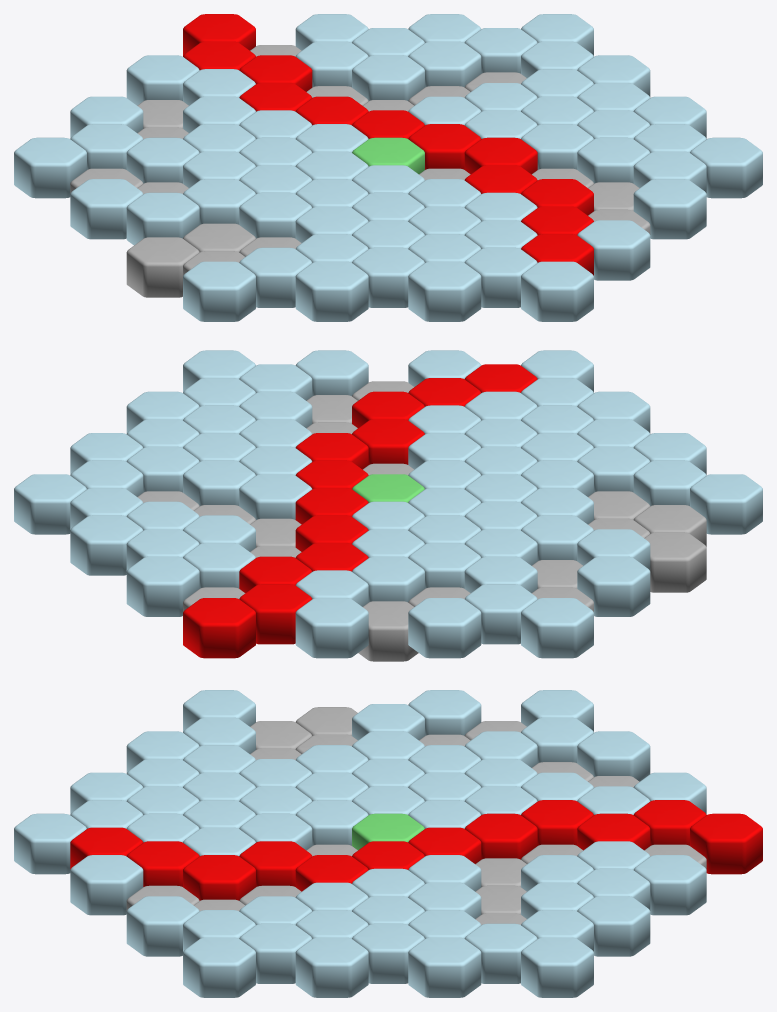
Rendered from hexa.fbx.
The picture shows the model from 3 angles, top to bottom: view 1: azimuth 30°, elevation 25°; view 2: azimuth 150°, elevation 25°; view 3: azimuth 270°, elevation 25°; orthographic projection.
Parts seen in each view (by area): view 1: Object_70, Object_90, Object_12, Object_61, Object_55, Object_43, Object_54, Object_34, Object_59, Object_57, Object_58, Object_79 (+74 smaller); view 2: Object_62, Object_80, Object_0, Object_55, Object_24, Object_57, Object_61, Object_51, Object_35, Object_59, Object_1, Object_63 (+77 smaller); view 3: Object_52, Object_53, Object_51, Object_54, Object_0, Object_34, Object_12, Object_35, Object_43, Object_24, Object_62, Object_47 (+73 smaller).
Part boxes in pixels (left/top/right/bottom): Object_70: left=295, top=261, right=368, bottom=321; Object_90: left=408, top=261, right=481, bottom=321; Object_12: left=521, top=261, right=593, bottom=321; Object_61: left=183, top=261, right=255, bottom=321; Object_55: left=14, top=137, right=86, bottom=198; Object_43: left=633, top=179, right=706, bottom=239; Object_54: left=690, top=137, right=762, bottom=198; Object_34: left=577, top=220, right=650, bottom=280; Object_59: left=126, top=237, right=199, bottom=297; Object_57: left=70, top=179, right=142, bottom=239; Object_58: left=126, top=192, right=199, bottom=245; Object_79: left=352, top=247, right=424, bottom=307; Object_62: left=408, top=598, right=481, bottom=658; Object_80: left=295, top=598, right=368, bottom=658; Object_0: left=183, top=598, right=255, bottom=658; Object_55: left=521, top=598, right=593, bottom=658; Object_24: left=126, top=556, right=199, bottom=616; Object_57: left=577, top=556, right=650, bottom=616; Object_61: left=690, top=474, right=762, bottom=534; Object_51: left=14, top=474, right=86, bottom=534; Object_35: left=70, top=515, right=143, bottom=575; Object_59: left=644, top=532, right=706, bottom=592; Object_1: left=239, top=584, right=311, bottom=644; Object_63: left=465, top=584, right=537, bottom=644; Object_52: left=408, top=937, right=481, bottom=997; Object_53: left=295, top=937, right=368, bottom=997; Object_51: left=521, top=937, right=593, bottom=997; Object_54: left=183, top=937, right=255, bottom=997; Object_0: left=690, top=813, right=762, bottom=874; Object_34: left=70, top=855, right=143, bottom=915; Object_12: left=14, top=813, right=86, bottom=874; Object_35: left=577, top=896, right=650, bottom=956; Object_43: left=126, top=896, right=199, bottom=956; Object_24: left=634, top=855, right=706, bottom=915; Object_62: left=577, top=731, right=650, bottom=781; Object_47: left=352, top=923, right=424, bottom=983.
Size of the model in its own units: 86.6 by 7.5 by 99.73.
